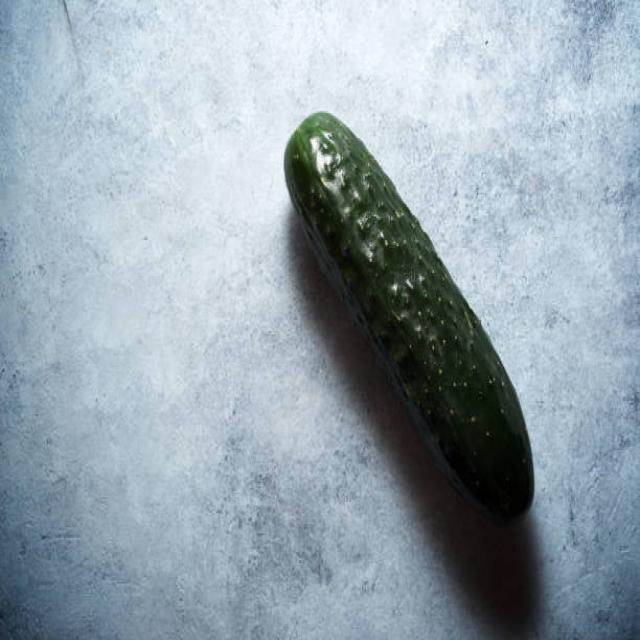cucumber: (284, 110, 534, 535)
